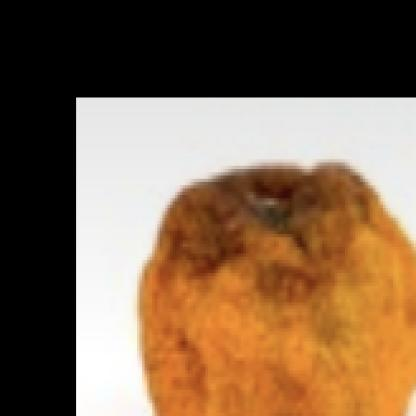rotten: (141, 163, 415, 416)
